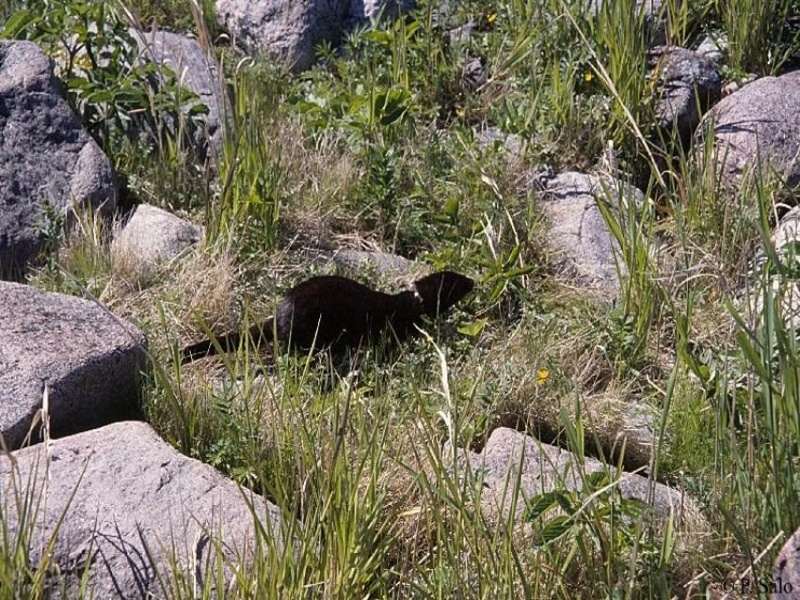minkish: (166, 269, 480, 370)
